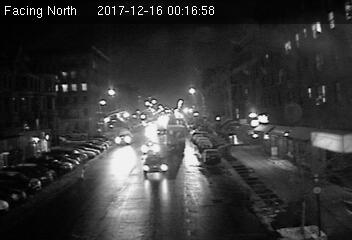car: (143, 154, 168, 174), (113, 132, 135, 145), (202, 149, 221, 164)
